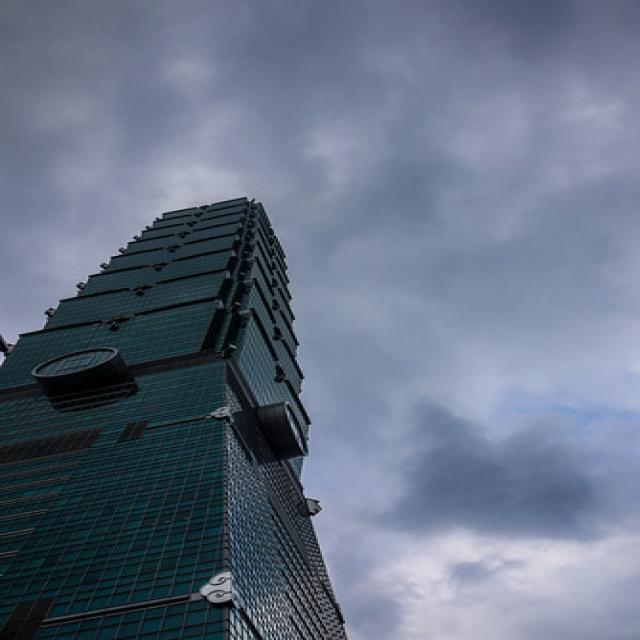Normal_building: (1, 197, 369, 640)
